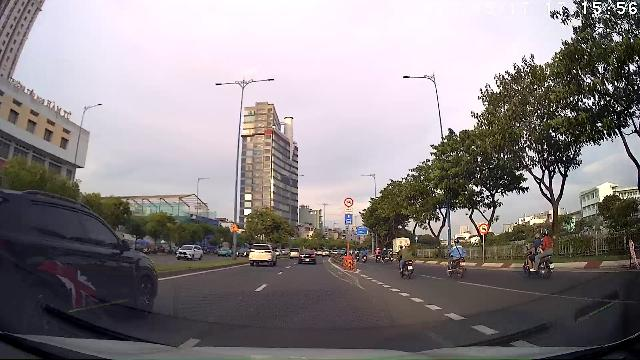103a-cam-oto: (479, 223, 489, 234)
